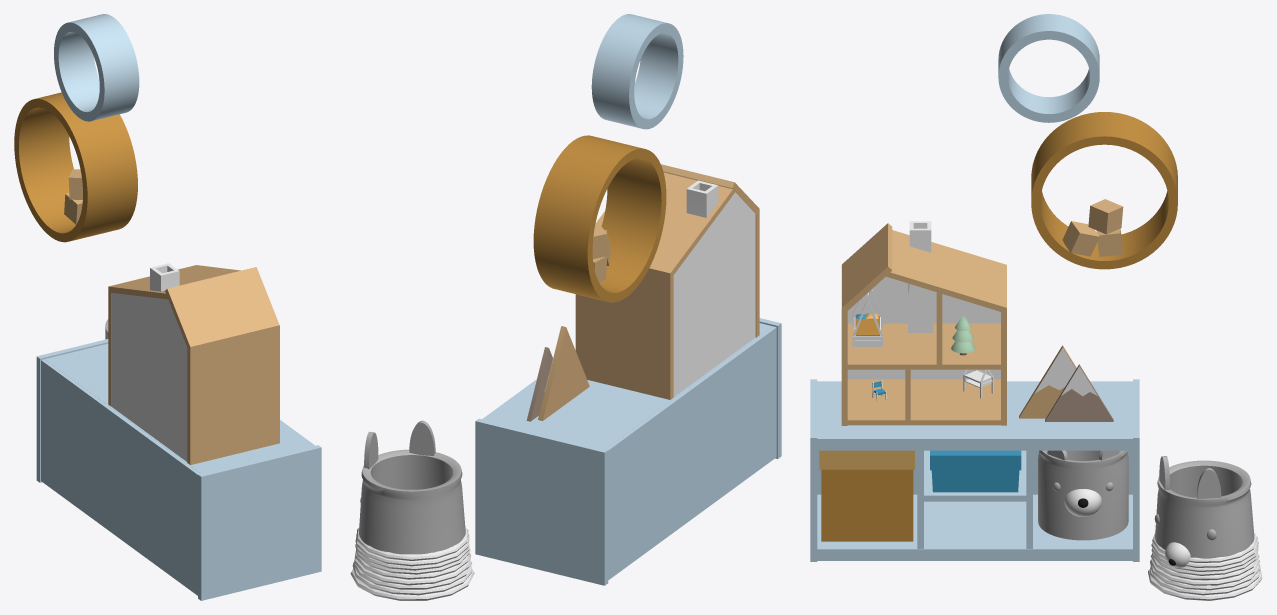
The model's file is Furn1_playzone_color1_joined.fbx.
The picture shows the model from 3 angles, left to right: view 1: azimuth 30°, elevation 25°; view 2: azimuth 150°, elevation 25°; view 3: azimuth 270°, elevation 25°; orthographic projection. The views are drawn at different scales.
Parts seen in each view (by area): view 1: Цилиндр.001; view 2: Цилиндр.001; view 3: Цилиндр.001.
Boxes of the visible parts, x1,y1,x2,y2 form: Цилиндр.001: (14,14,321,600); Цилиндр.001: (350,14,781,600); Цилиндр.001: (810,14,1262,600).
Bounding box in the file's own units: 200 × 471 × 392.
